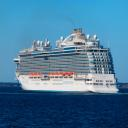cruises: (13, 28, 122, 96)
